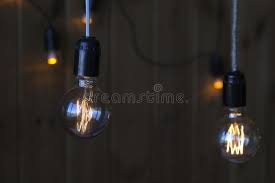bulb: (207, 96, 271, 176), (54, 65, 116, 139)
